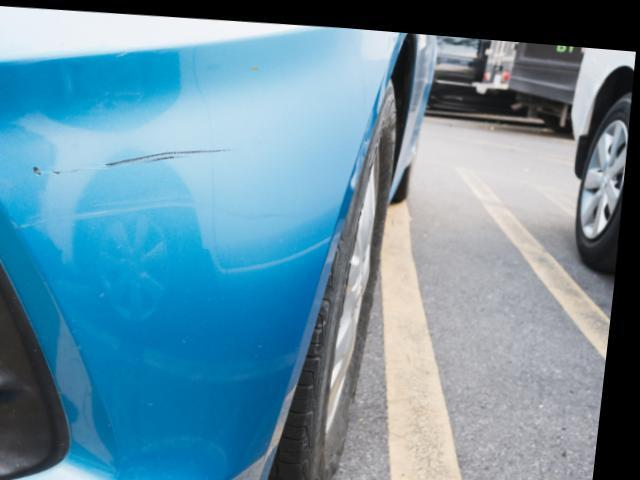scratch: (42, 138, 243, 175)
